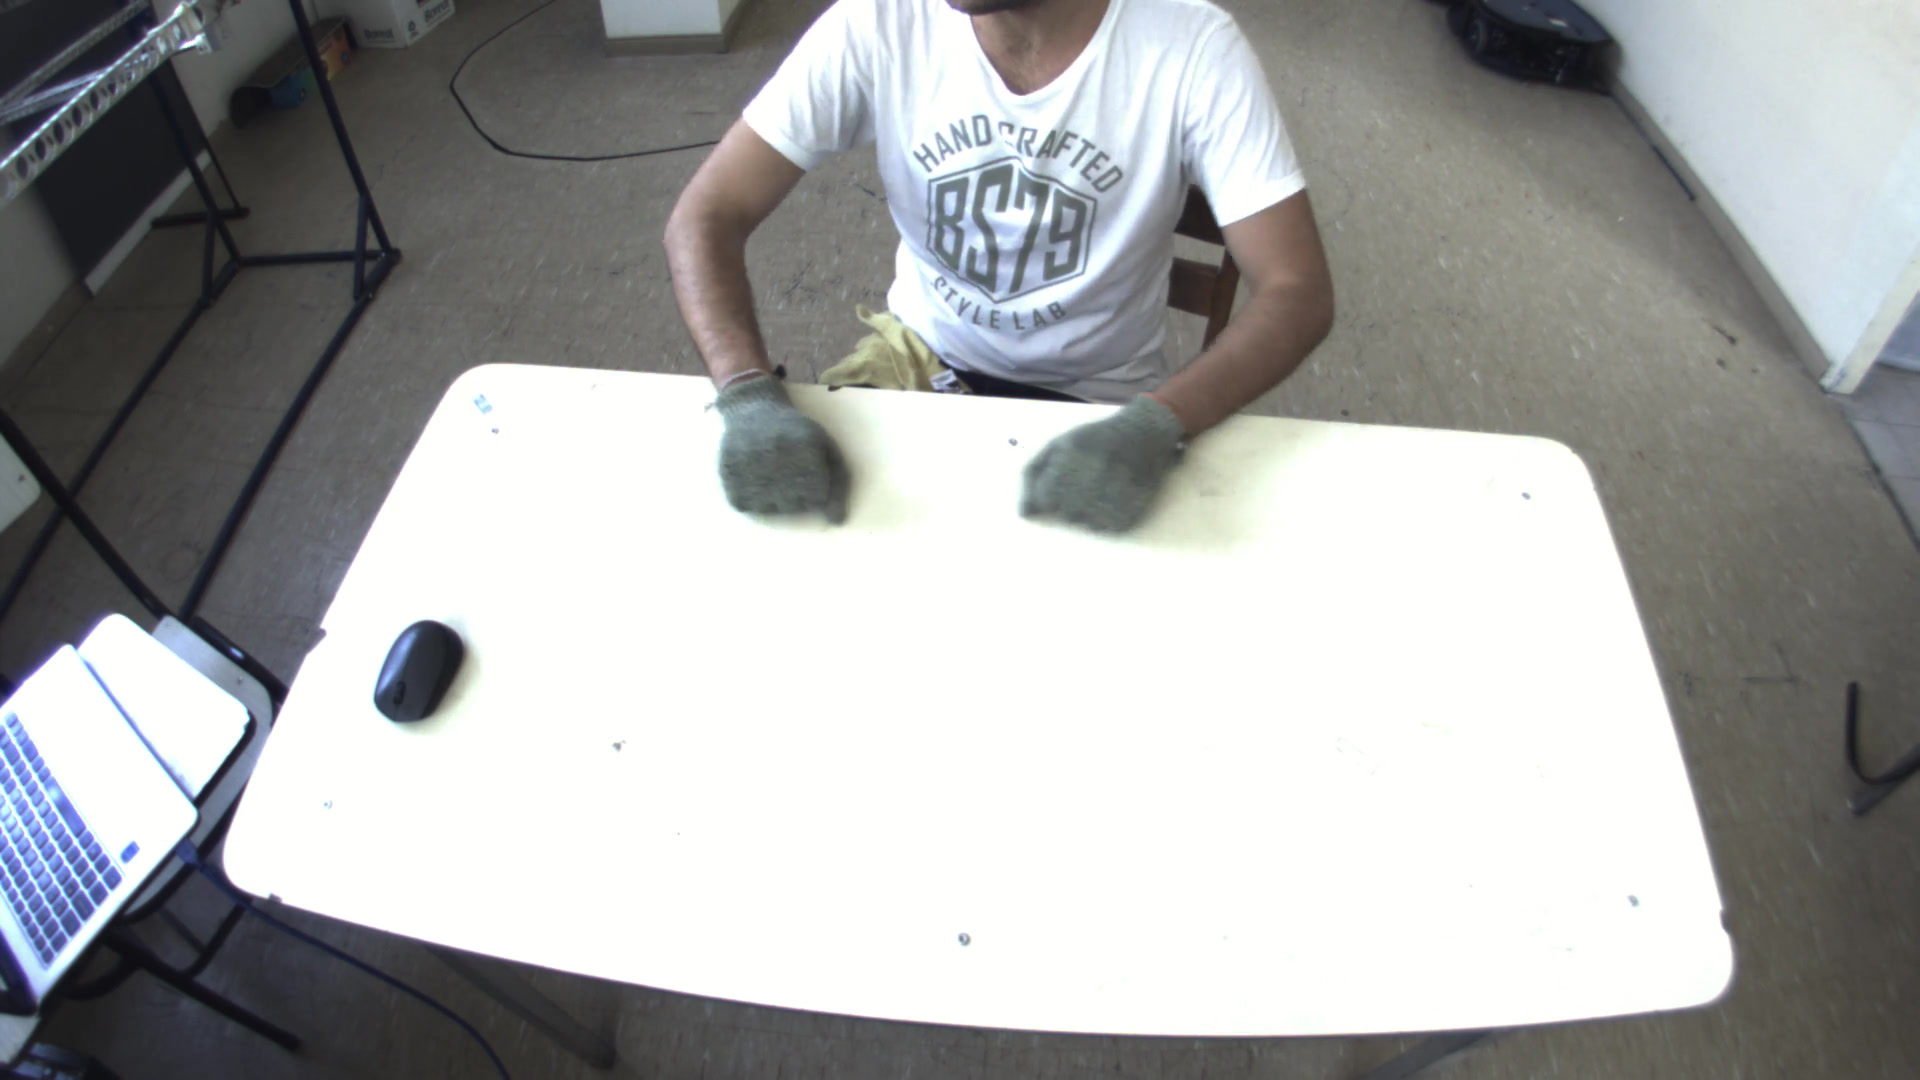hand: (1011, 385, 1185, 538), (694, 359, 851, 518)
